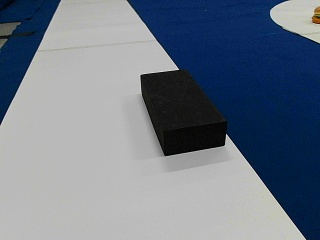block: (141, 70, 225, 156)
